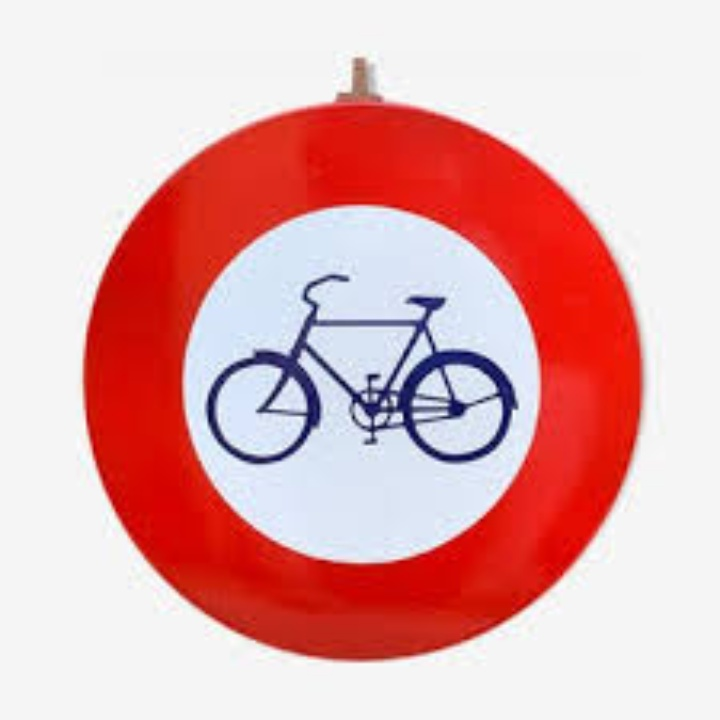bicycle: (201, 265, 523, 473)
